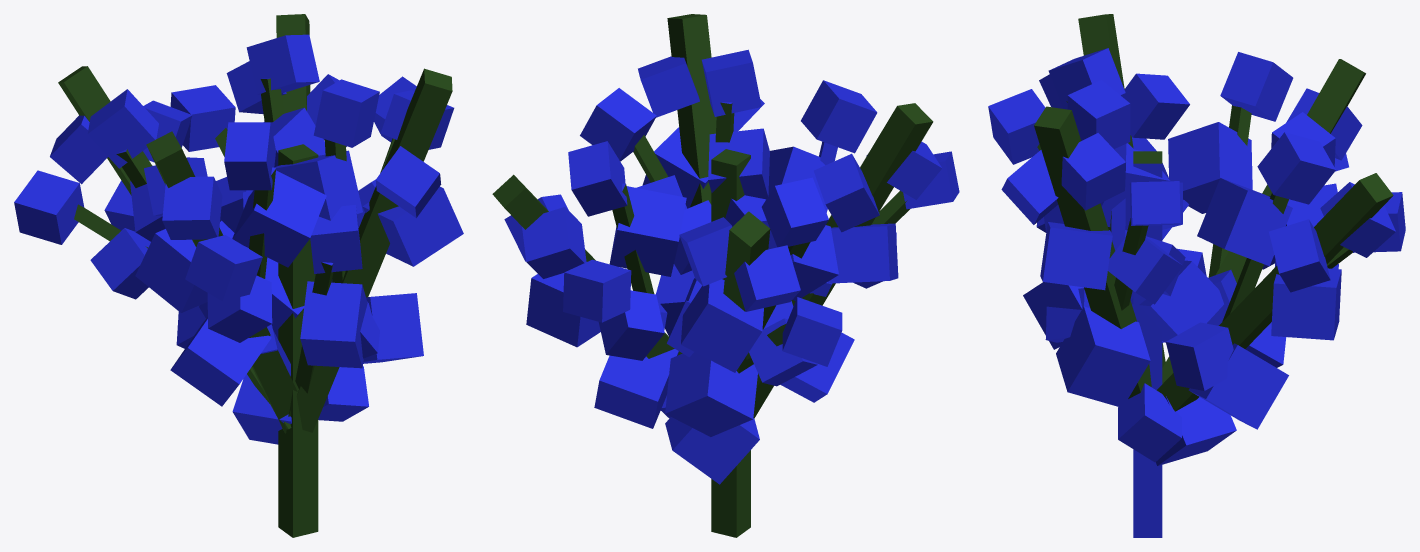
File: Berries.fbx
3 views of the same model, side by side, from view 1: azimuth 30°, elevation 25°; view 2: azimuth 150°, elevation 25°; view 3: azimuth 270°, elevation 25° (orthographic).
Visible parts, largest first — view 1: Cube.002; view 2: Cube.002; view 3: Cube.002.
Part boxes in pixels (bbox=[...]): Cube.002: bbox=[14, 14, 463, 537]; Cube.002: bbox=[492, 14, 959, 537]; Cube.002: bbox=[988, 14, 1405, 537].
Size of the model in its own units: 582 by 760 by 620.
